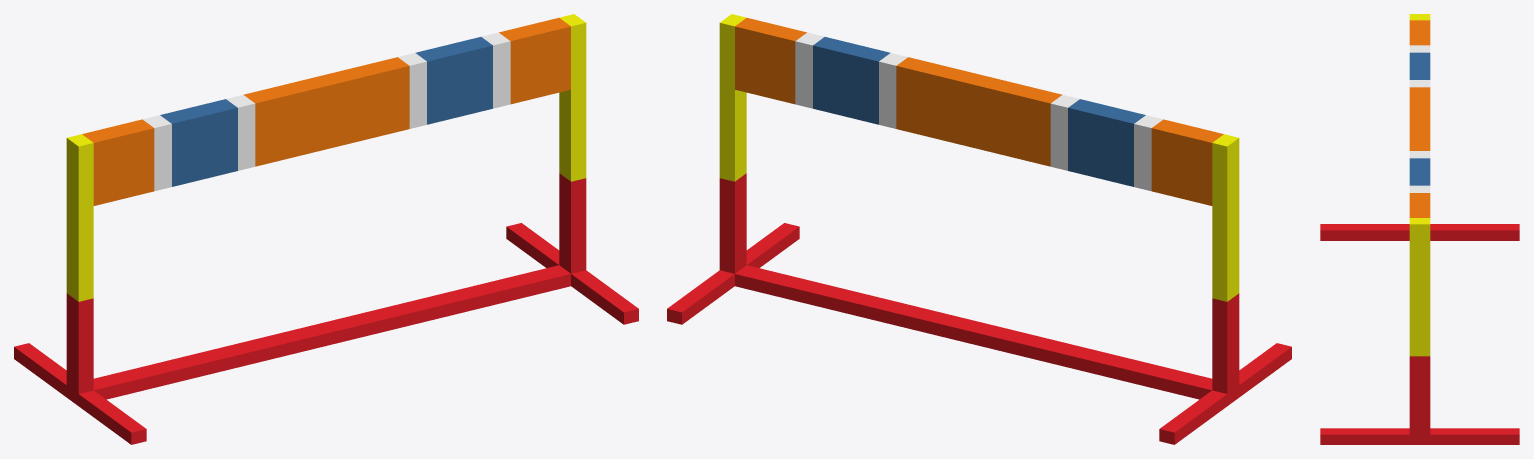
The model's file is fence.fbx.
3 renders of one model, left to right at view 1: azimuth 30°, elevation 25°; view 2: azimuth 150°, elevation 25°; view 3: azimuth 270°, elevation 25°, orthographic. The views are drawn at different scales.
Parts seen in each view (by area): view 1: fence; view 2: fence; view 3: fence.
Part boxes in pixels (x1,y1,x2,y2): fence: (14,14,638,444); fence: (667,14,1291,444); fence: (1320,14,1519,444).
Bounding box in the file's own units: 0.6931 × 0.339 × 0.2777.
1 material, 1 textured.
